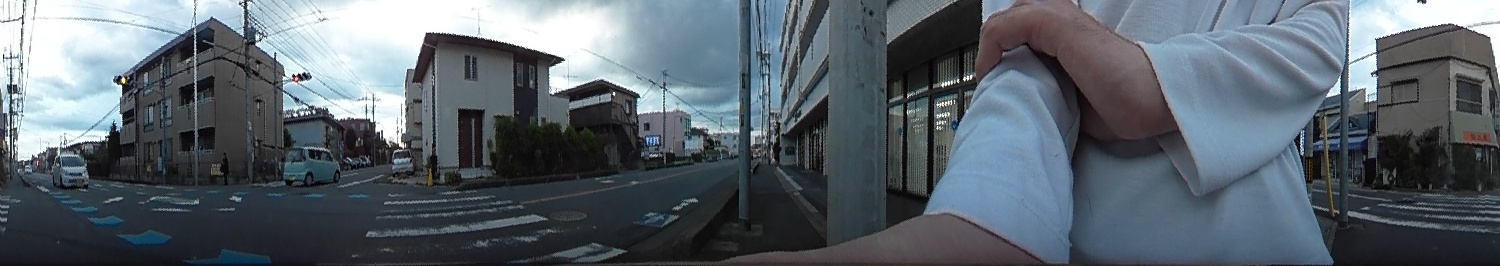difficult_person: (770, 138, 781, 166)
